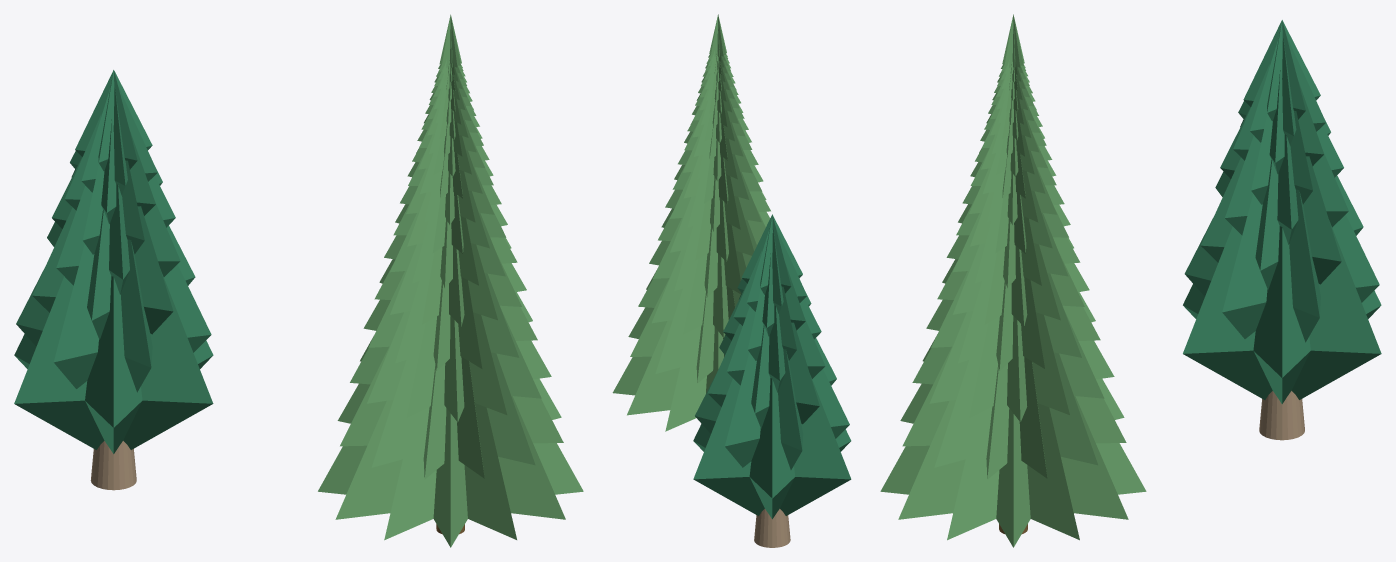
File: trees.glb
3 views of the same model, side by side, from view 1: azimuth 30°, elevation 25°; view 2: azimuth 150°, elevation 25°; view 3: azimuth 270°, elevation 25° (orthographic). The views are drawn at different scales.
Parts seen in each view (by area): view 1: Mesh_Mesh_head_geo.001_lambert2SG.001; view 2: Mesh_Mesh_head_geo.001_lambert2SG.001; view 3: Mesh_Mesh_head_geo.001_lambert2SG.001.
Part boxes in pixels (<box>): Mesh_Mesh_head_geo.001_lambert2SG.001: <box>14,14,583,547</box>; Mesh_Mesh_head_geo.001_lambert2SG.001: <box>612,14,851,547</box>; Mesh_Mesh_head_geo.001_lambert2SG.001: <box>880,14,1381,547</box>.
Size of the model in its own units: 0.067 by 0.079 by 0.0696.
